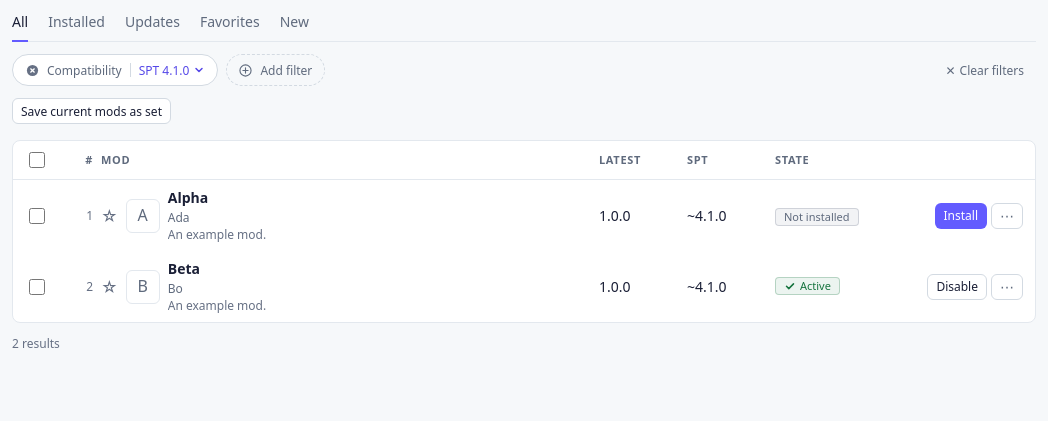
it: selecting rows › counts the rows the player picked
This screenshot has width=1048, height=421.
Click the checkbox named "Select Alpha" at coordinates (37, 216), box x1=29 y1=208 x2=45 y2=224
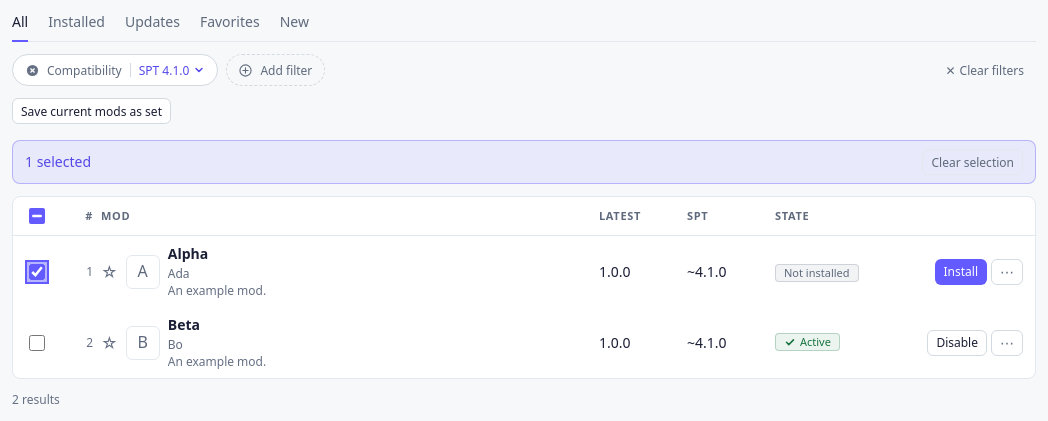
Now the text "1 selected" is shown, box x1=25 y1=152 x2=91 y2=172
